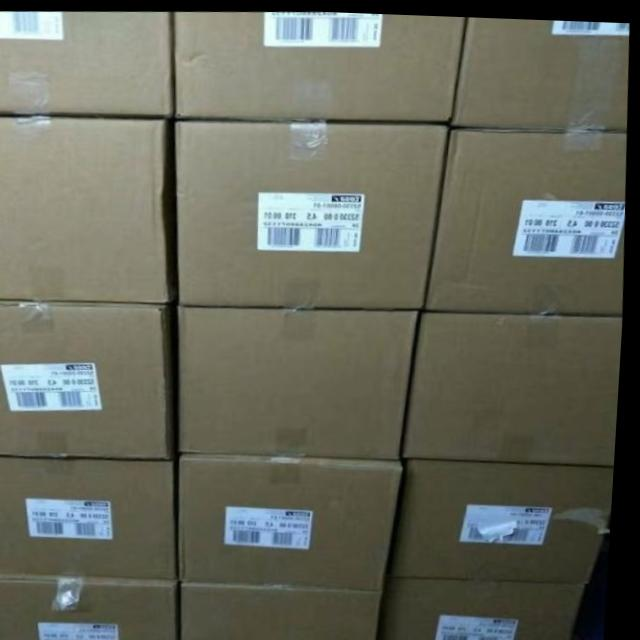box: (174, 117, 451, 307), (179, 304, 426, 457), (428, 123, 626, 311), (405, 307, 626, 462), (0, 115, 180, 304), (173, 9, 466, 119), (182, 452, 409, 587), (0, 299, 179, 458), (395, 455, 619, 578), (0, 456, 184, 579), (451, 14, 629, 125), (0, 11, 174, 117), (386, 573, 593, 640), (184, 579, 392, 640), (0, 572, 186, 640)
